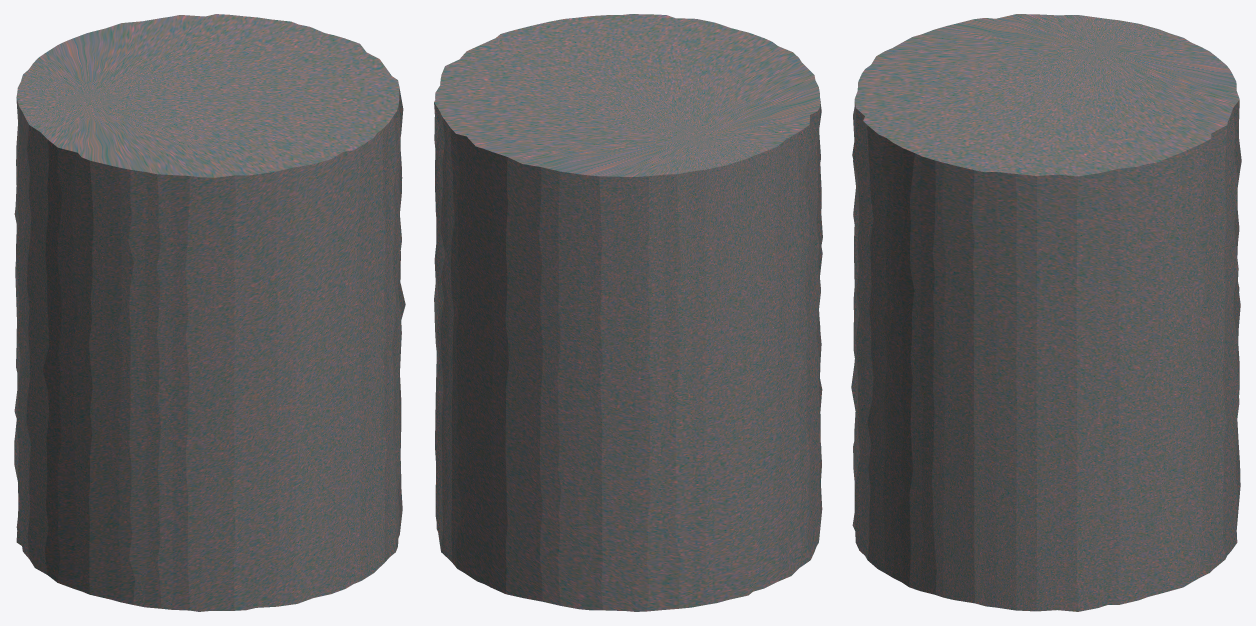
File: barrel_4.dae
3 views of the same model, side by side, from view 1: azimuth 30°, elevation 25°; view 2: azimuth 150°, elevation 25°; view 3: azimuth 270°, elevation 25° (orthographic).
Parts seen in each view (by area): view 1: Cylinder; view 2: Cylinder; view 3: Cylinder.
Part boxes in pixels (box(x1,y1,x2,y2)): Cylinder: box(14, 14, 405, 611); Cylinder: box(434, 14, 822, 611); Cylinder: box(851, 14, 1241, 611).
Bounding box in the file's own units: 0.8172 × 0.8142 × 1.
Materials: 1 (1 with a texture image).
